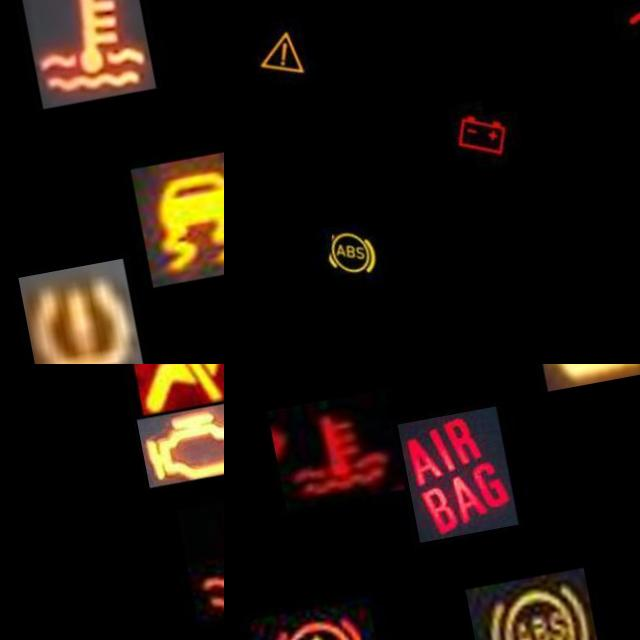Engine cooling system: (264, 398, 397, 514), (15, 0, 146, 117), (156, 496, 224, 628)
